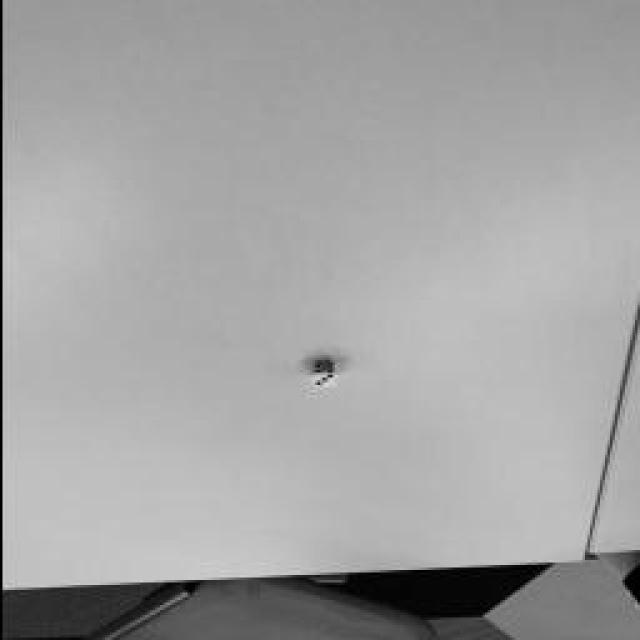dice_3: (312, 374, 332, 386)
